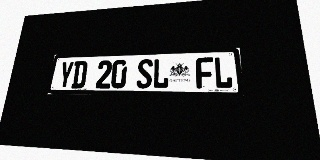0: (110, 60, 127, 88)
2: (96, 60, 113, 88)
D: (71, 61, 88, 88)
F: (196, 57, 214, 88)
L: (213, 56, 233, 88), (152, 58, 169, 88)
S: (136, 59, 153, 88)
Y: (57, 61, 74, 88)
